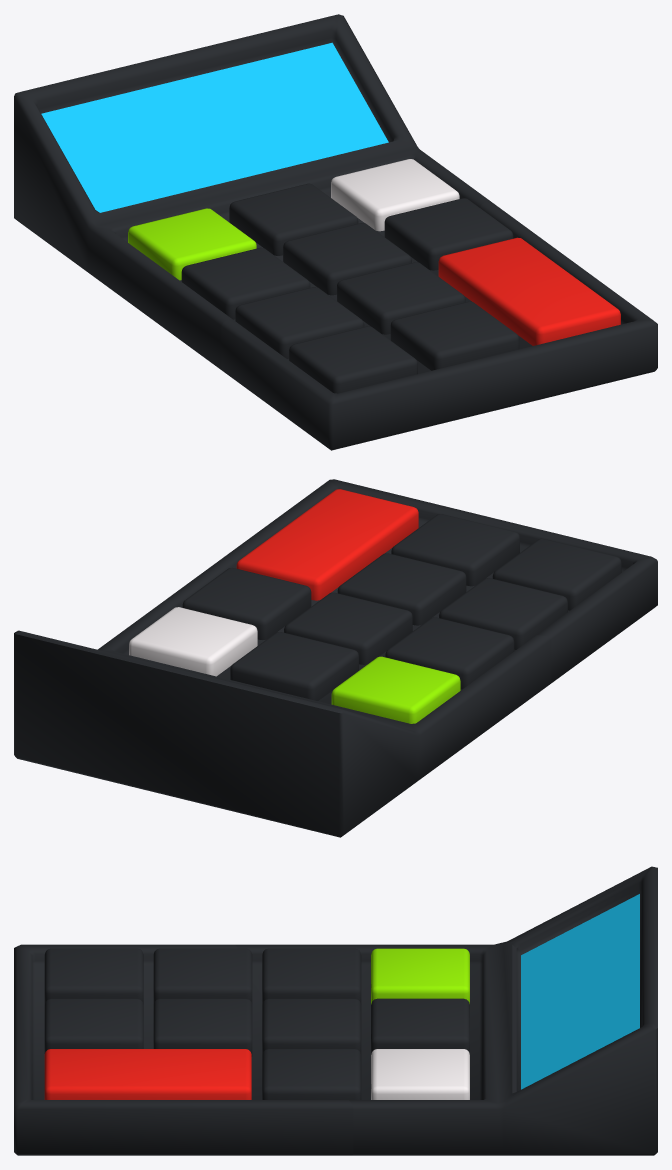
File: Calculator_Broken.fbx
3 renders of one model, top to bottom at view 1: azimuth 30°, elevation 25°; view 2: azimuth 150°, elevation 25°; view 3: azimuth 270°, elevation 25°, orthographic.
Visible parts, largest first — view 1: Calculator, Calculator.001; view 2: Calculator, Calculator.001; view 3: Calculator, Calculator.001.
Part boxes in pixels (x1,y1,x2,y2): Calculator: (14,14,489,369); Calculator.001: (221,198,657,450); Calculator: (14,592,551,837); Calculator.001: (166,479,657,684); Calculator: (235,866,657,1155); Calculator.001: (14,944,361,1155).
Size of the model in its own units: 38.01 by 14.13 by 63.45.
